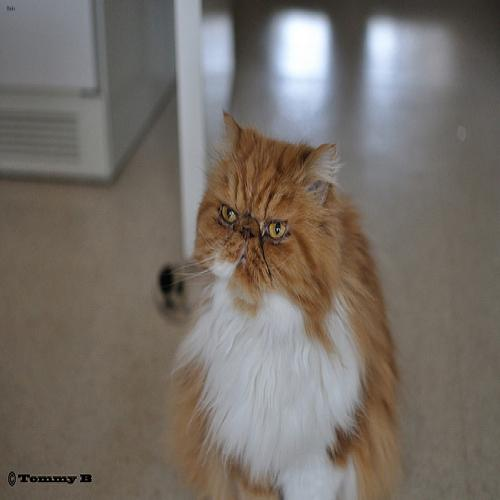persian: (180, 107, 343, 334)
